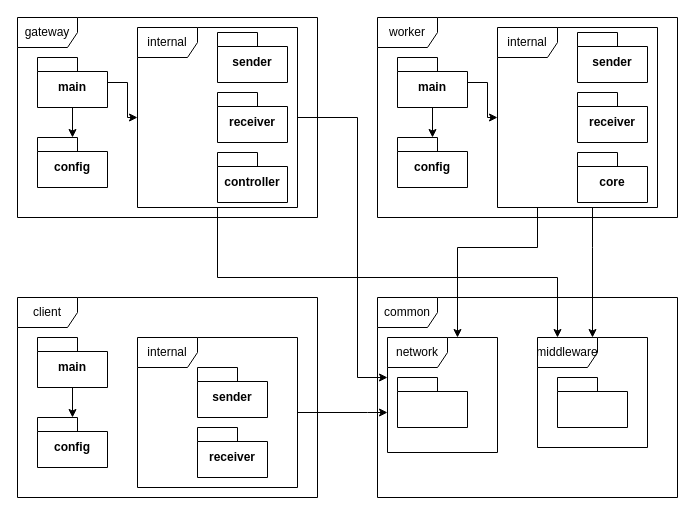
This 695x515 diagram has some shape labels left out. Here are the shapes that lost their labels. From the top down, the centre of each, then its label:
At [432,402]: "protocol".
At [592,402]: "RabbitMQ".
